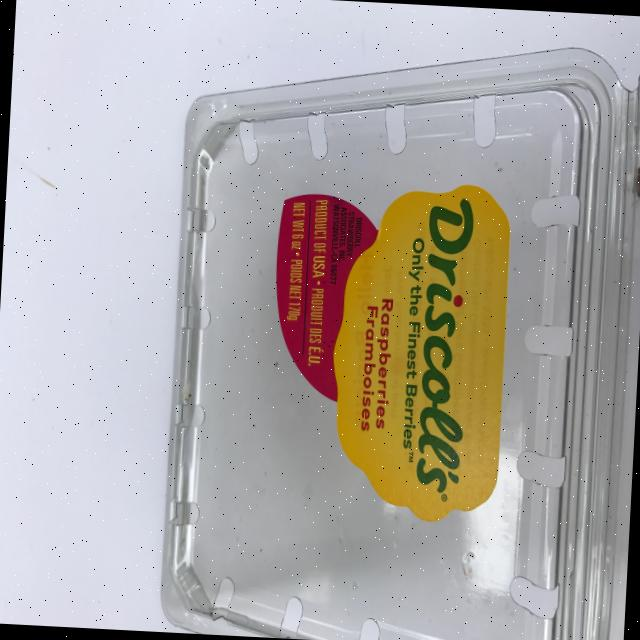plastic: (159, 39, 605, 640), (324, 177, 514, 525)
